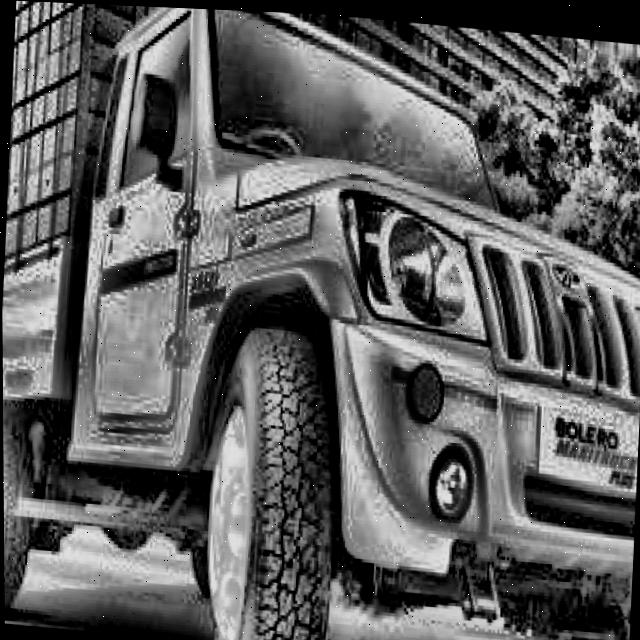light_vehicle: (71, 2, 640, 640)
